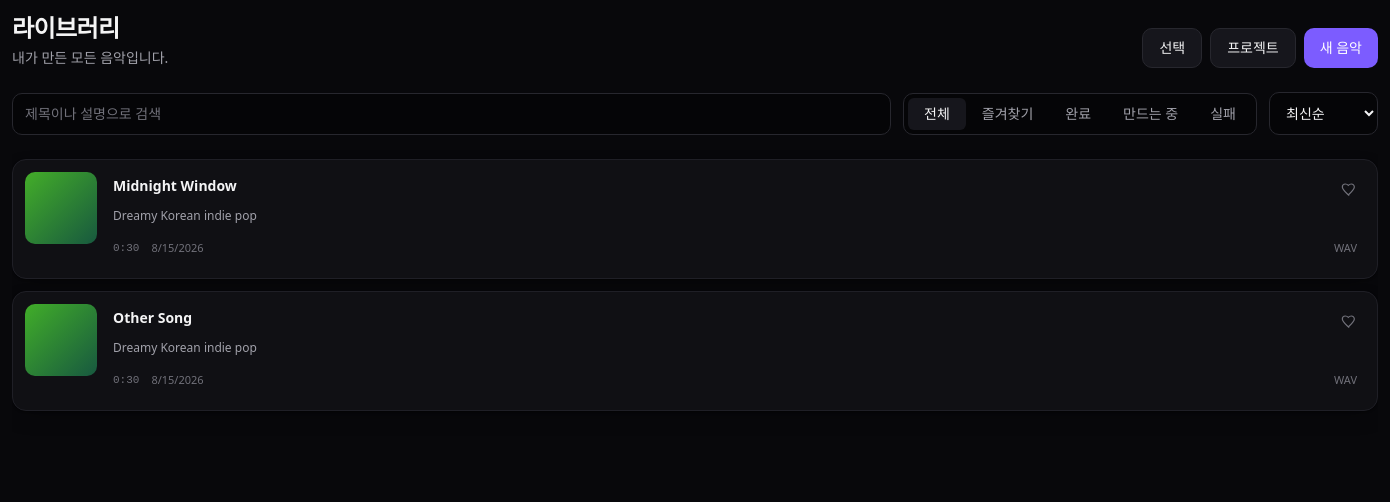
Test: selection mode › selects songs and reports the count
Expected: the text "Midnight Window" is shown, [113, 176, 237, 196]
Click the button "선택": click(1172, 48) [1142, 28, 1202, 68]
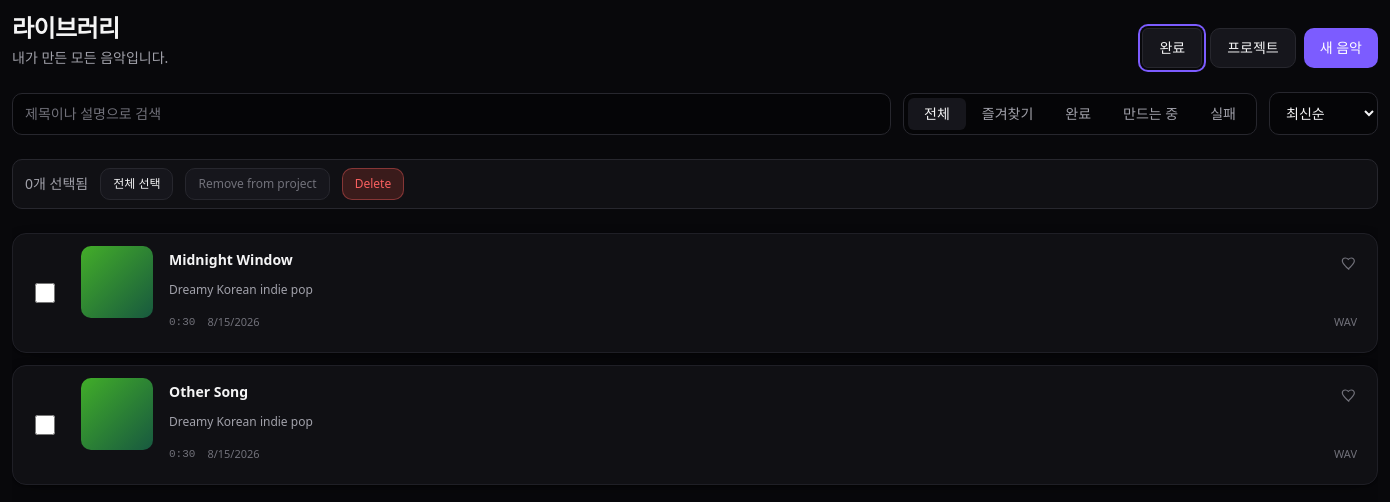
Click the checkbox named "Select Midnight Window" below "Midnight Window": click(45, 293) [35, 283, 55, 303]
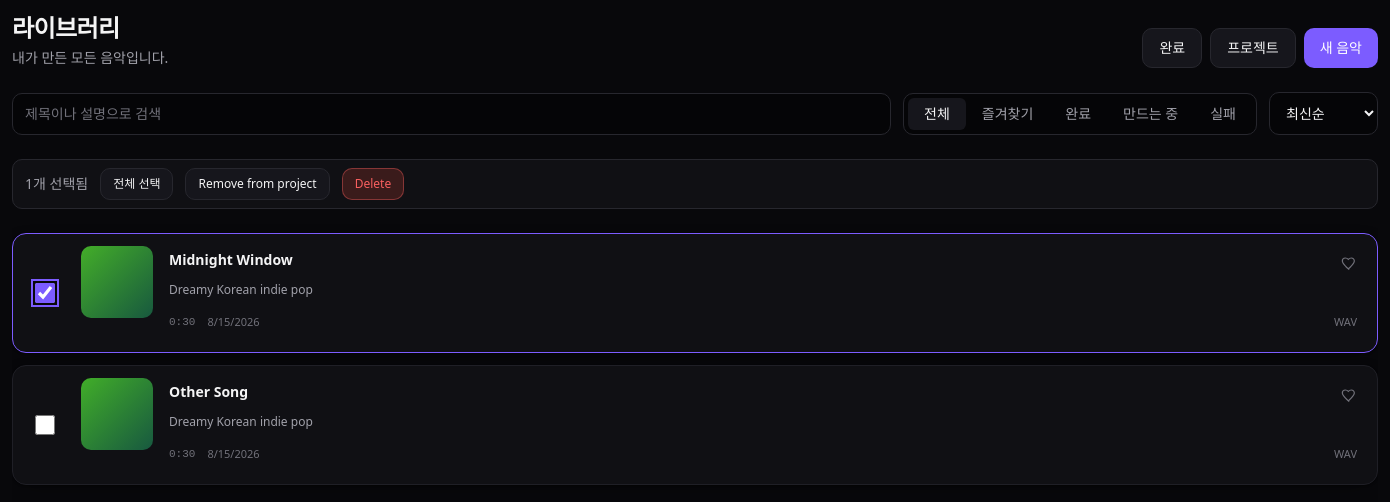
Expected: the text "1개 선택됨" is shown, [25, 174, 88, 194]
